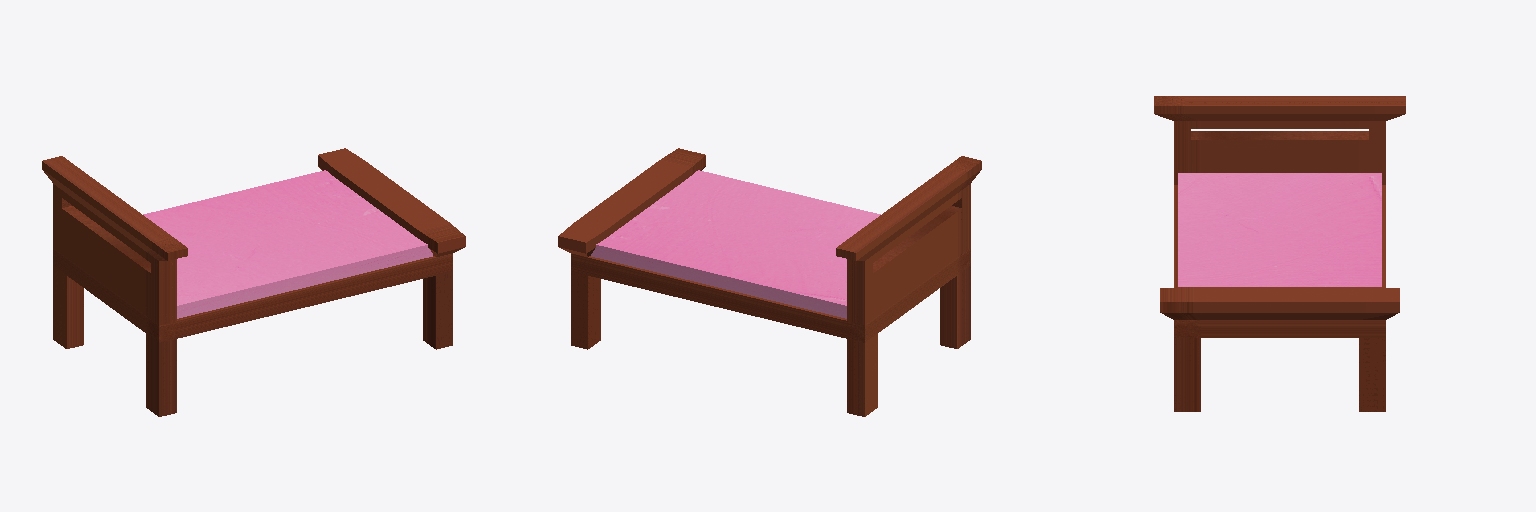
The picture shows the model from 3 angles: view 1: azimuth 30°, elevation 25°; view 2: azimuth 150°, elevation 25°; view 3: azimuth 270°, elevation 25°; orthographic projection.
Visible parts, largest first — view 1: bed_frame, mattress; view 2: bed_frame, mattress; view 3: bed_frame, mattress.
Boxes of the visible parts, <box> form: bed_frame: <box>42,148,465,416</box>; mattress: <box>143,170,432,318</box>; bed_frame: <box>558,148,981,416</box>; mattress: <box>591,170,880,318</box>; bed_frame: <box>1154,96,1405,411</box>; mattress: <box>1178,173,1381,286</box>.
Size of the model in its own units: 13.59 by 7.38 by 9.81.
Materials: 2 (2 with a texture image).